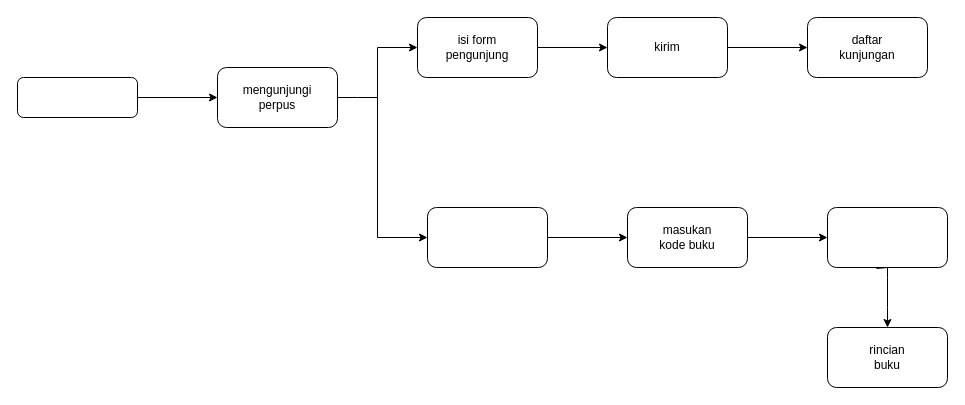
Image size: 965x405. Some labels were removed from this diagram. Here are the shapes that lost their labels. From the top down, the box of each, then its label:
(16, 76, 138, 118): user
(426, 206, 548, 268): pencarian buku
(826, 206, 948, 268): hasil
